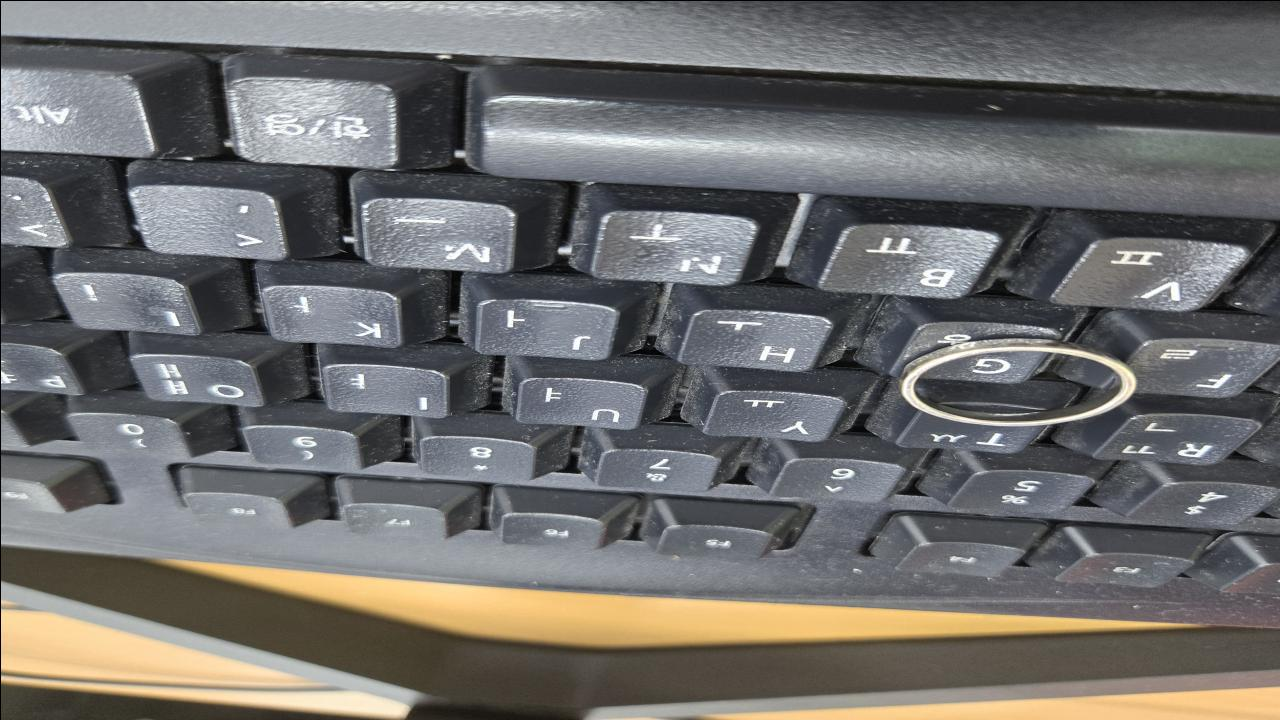ring: (893, 336, 1141, 428)
